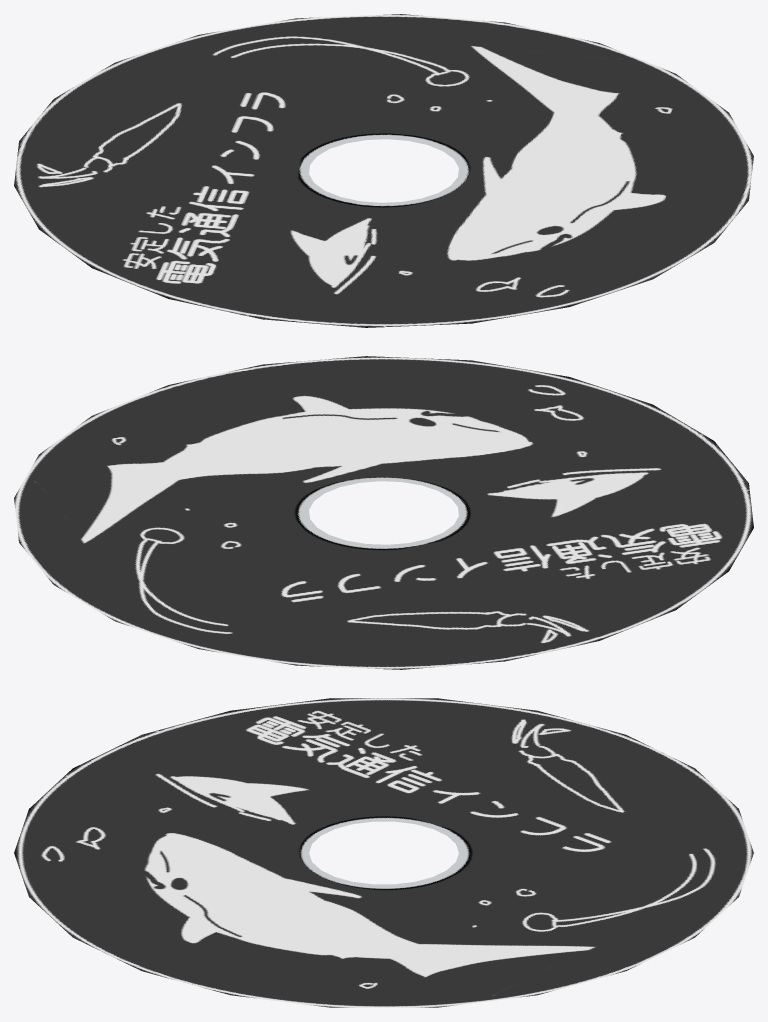
Rendered from sameCD.glb.
The picture shows the model from 3 angles, top to bottom: view 1: azimuth 30°, elevation 25°; view 2: azimuth 150°, elevation 25°; view 3: azimuth 270°, elevation 25°; orthographic projection.
Parts seen in each view (by area): view 1: 円; view 2: 円; view 3: 円.
Boxes of the visible parts, x1,y1,x2,y2 form: 円: (14,14,753,327); 円: (14,356,753,669); 円: (14,698,753,1007).
Size of the model in its own units: 1.98 by 0 by 2.
1 material, 1 textured.
